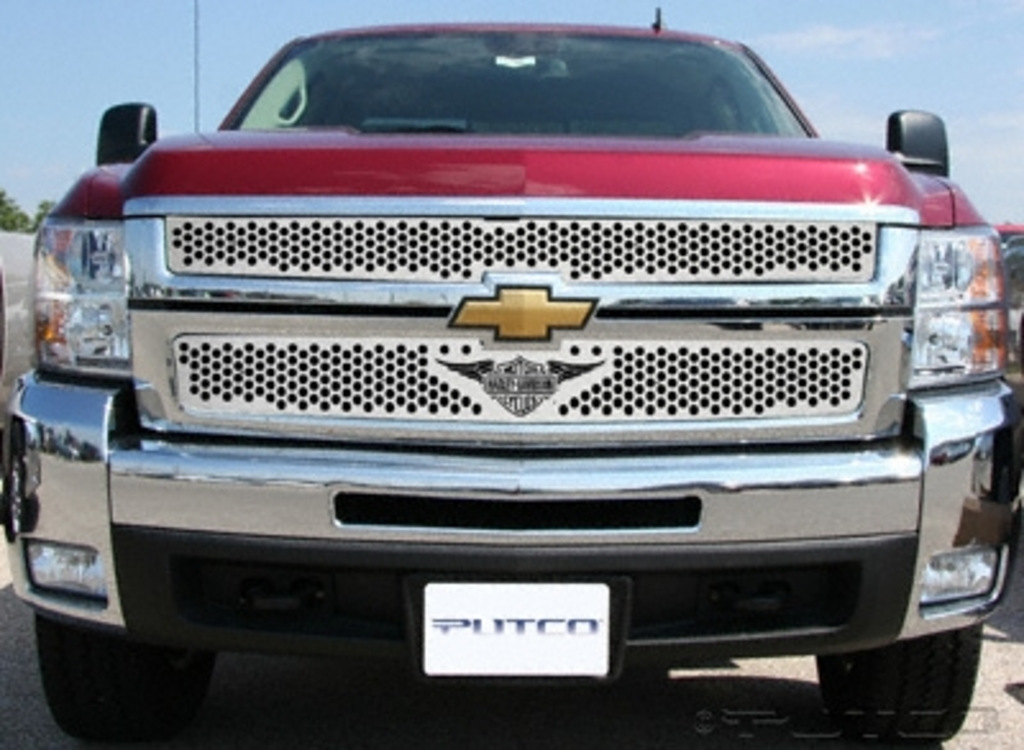Car: (7, 15, 1021, 742)
